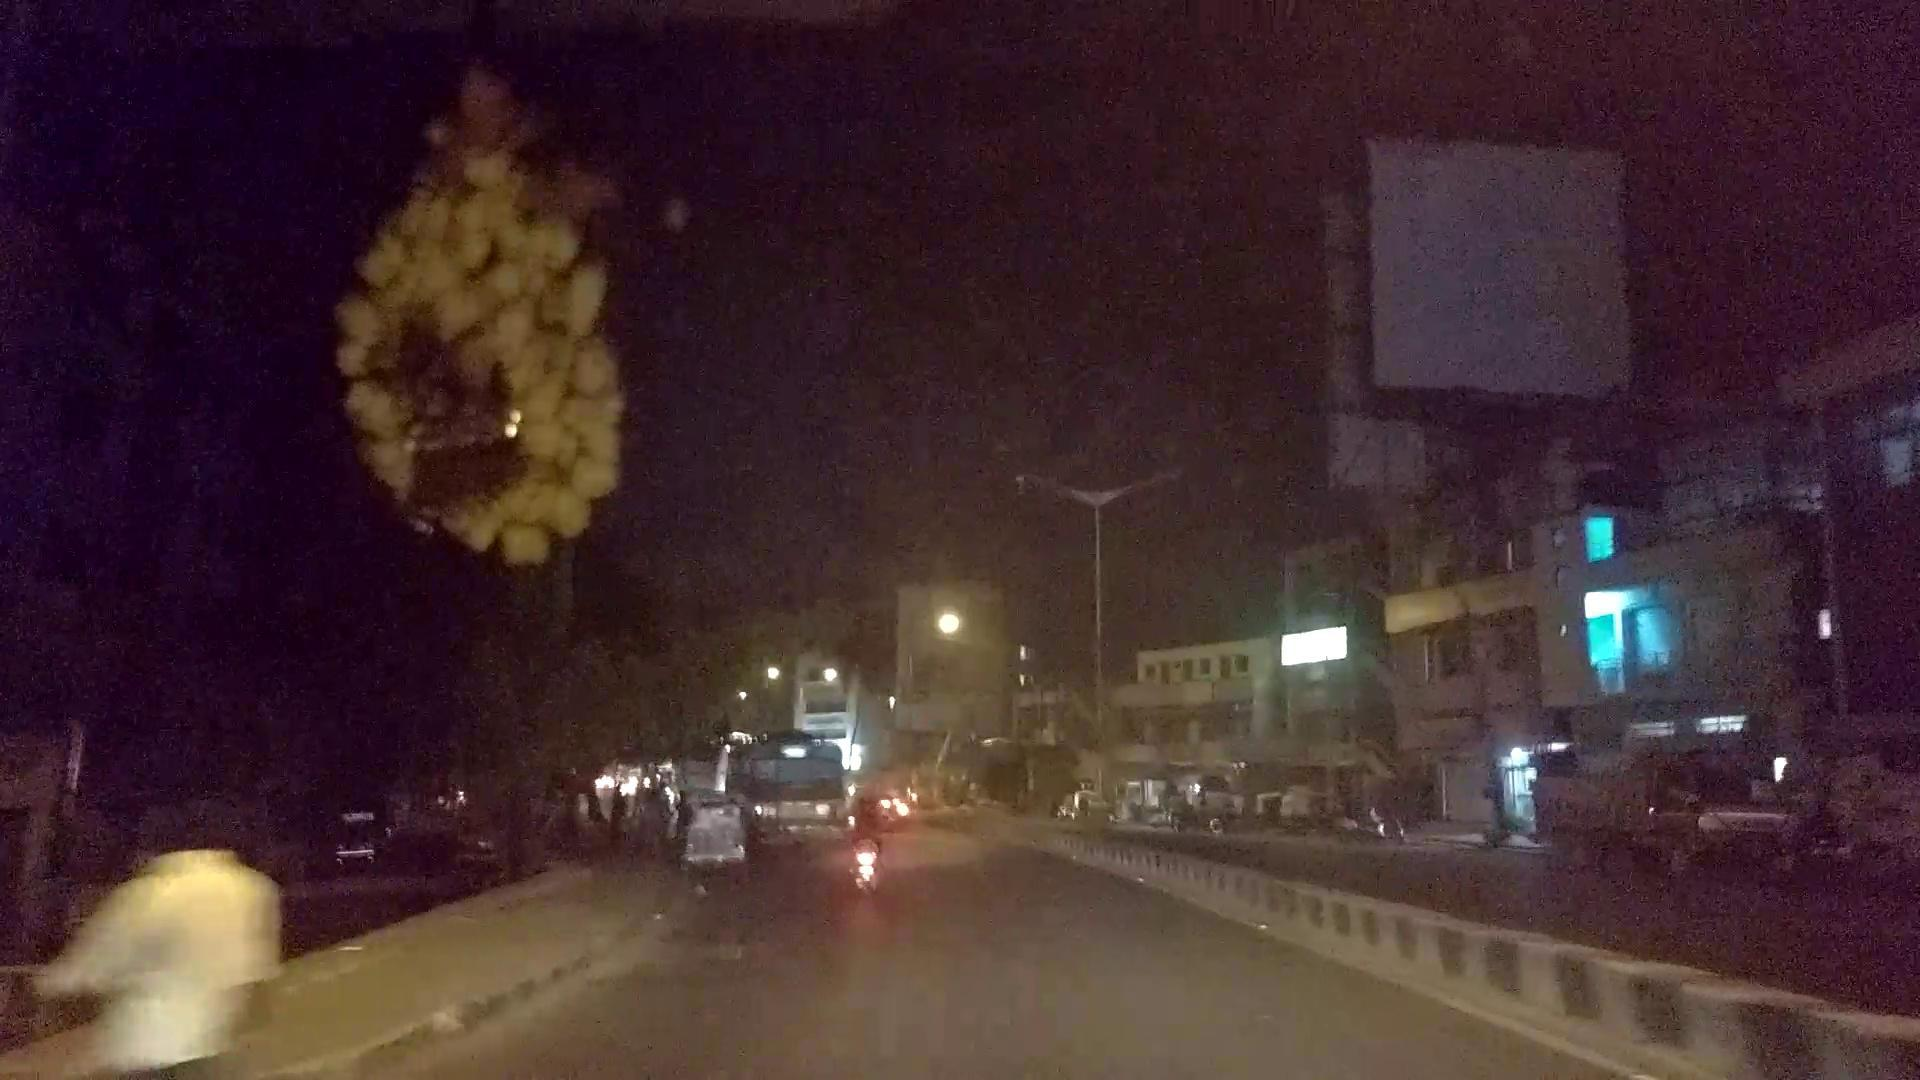on: (960, 332, 1791, 947)
